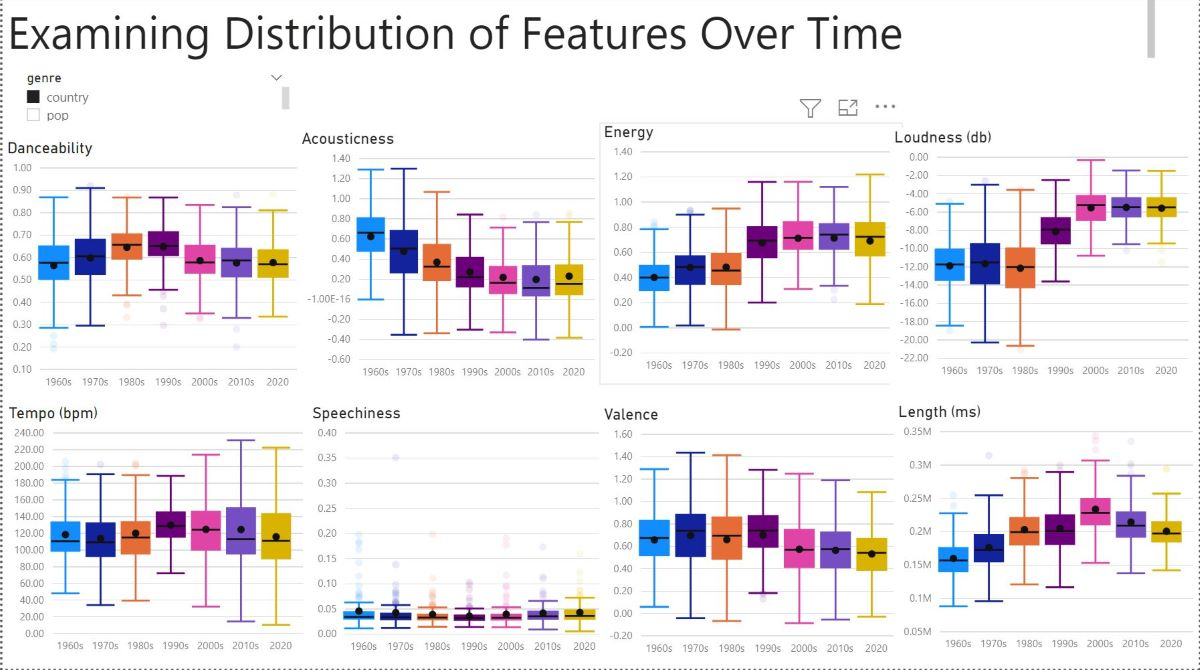

This screenshot's page, from the dashboard's own definition file:
{"tool":"powerbi","page":{"name":"Box Plots","canvas":[1280,720],"ordinal":0},"visuals":[{"type":"BoxWhiskerChart1455240051538","title":"Danceability","fields":{"Values":["Sum(country_pop.danceability)"],"Samples":["country_pop.name"],"Groups":["country_pop.playlist"]},"box":[0,153.4,323.8,282.1],"z":0},{"type":"textbox","box":[0,0,1238.1,73.1],"z":1000},{"type":"BoxWhiskerChart1455240051538","title":"Tempo (bpm)","fields":{"Values":["Sum(country_pop.tempo)"],"Groups":["country_pop.playlist"],"Samples":["country_pop.name"]},"box":[2,436.7,325,281],"z":2000},{"type":"BoxWhiskerChart1455240051538","title":"Acousticness","fields":{"Values":["Sum(country_pop.acousticness)"],"Samples":["country_pop.name"],"Groups":["country_pop.playlist"]},"box":[314.4,143.5,324.2,281.3],"z":3000},{"type":"BoxWhiskerChart1455240051538","title":"Speechiness","fields":{"Values":["Sum(country_pop.speechiness)"],"Samples":["country_pop.name"],"Groups":["country_pop.playlist"]},"box":[325.8,437.1,325.8,281.3],"z":4000},{"type":"BoxWhiskerChart1455240051538","title":"Energy","fields":{"Values":["Sum(country_pop.energy)"],"Samples":["country_pop.name"],"Groups":["country_pop.playlist"]},"box":[638.6,135.6,324.2,281.3],"z":5000},{"type":"BoxWhiskerChart1455240051538","title":"Valence","fields":{"Values":["Sum(country_pop.valence)"],"Samples":["country_pop.name"],"Groups":["country_pop.playlist"]},"box":[638.5,438.3,326.1,282.1],"z":6000},{"type":"BoxWhiskerChart1455240051538","title":"Loudness (db)","fields":{"Values":["Sum(country_pop.loudness)"],"Samples":["country_pop.name"],"Groups":["country_pop.playlist"]},"box":[948.6,142,325,281.3],"z":7000},{"type":"BoxWhiskerChart1455240051538","title":"Length (ms)","fields":{"Values":["Sum(country_pop.length)"],"Groups":["country_pop.playlist"],"Samples":["country_pop.name"]},"box":[953.3,439.4,326.4,280.6],"z":8000},{"type":"slicer","fields":{"Values":["country_pop.genre"]},"box":[13.3,73.8,299.2,64.4],"z":9000}]}

Visuals, with their boxes in screenshot pixels (x1, y1, x2, y2), scaled from the page's 1280x720 canvas onto the 1200x670 screenshot:
"Danceability" BoxWhiskerChart1455240051538: left=0, top=143, right=304, bottom=405
textbox: left=0, top=0, right=1161, bottom=68
"Tempo (bpm)" BoxWhiskerChart1455240051538: left=2, top=406, right=307, bottom=668
"Acousticness" BoxWhiskerChart1455240051538: left=295, top=134, right=599, bottom=395
"Speechiness" BoxWhiskerChart1455240051538: left=305, top=407, right=611, bottom=669
"Energy" BoxWhiskerChart1455240051538: left=599, top=126, right=903, bottom=388
"Valence" BoxWhiskerChart1455240051538: left=599, top=408, right=904, bottom=669
"Loudness (db)" BoxWhiskerChart1455240051538: left=889, top=132, right=1194, bottom=394
"Length (ms)" BoxWhiskerChart1455240051538: left=894, top=409, right=1199, bottom=669
slicer - country_pop.genre: left=12, top=69, right=293, bottom=129
